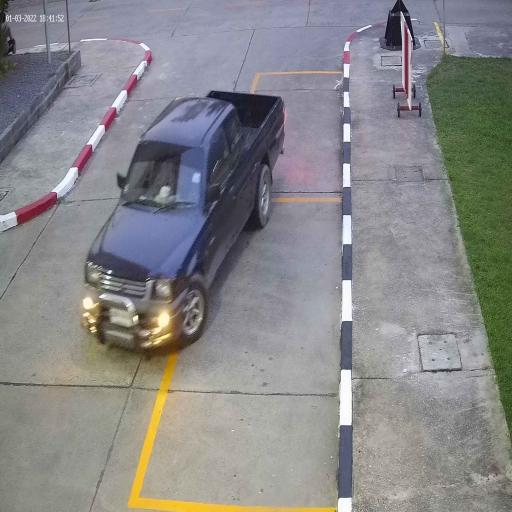car: (82, 88, 288, 350)
